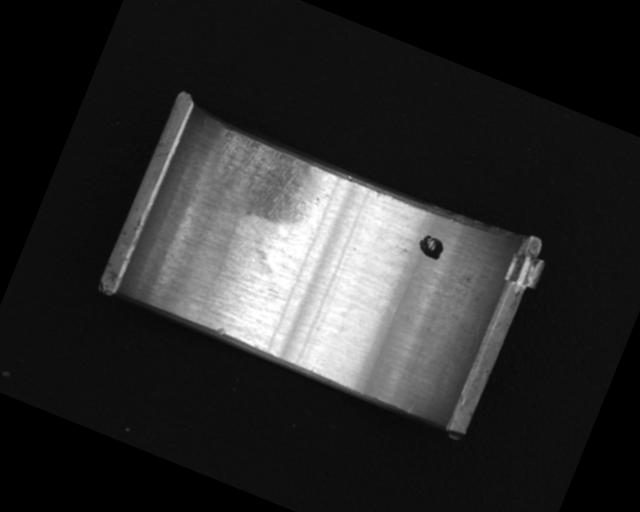blot: (414, 231, 448, 262)
bruise: (214, 324, 227, 337)
scratch: (192, 125, 334, 240)
